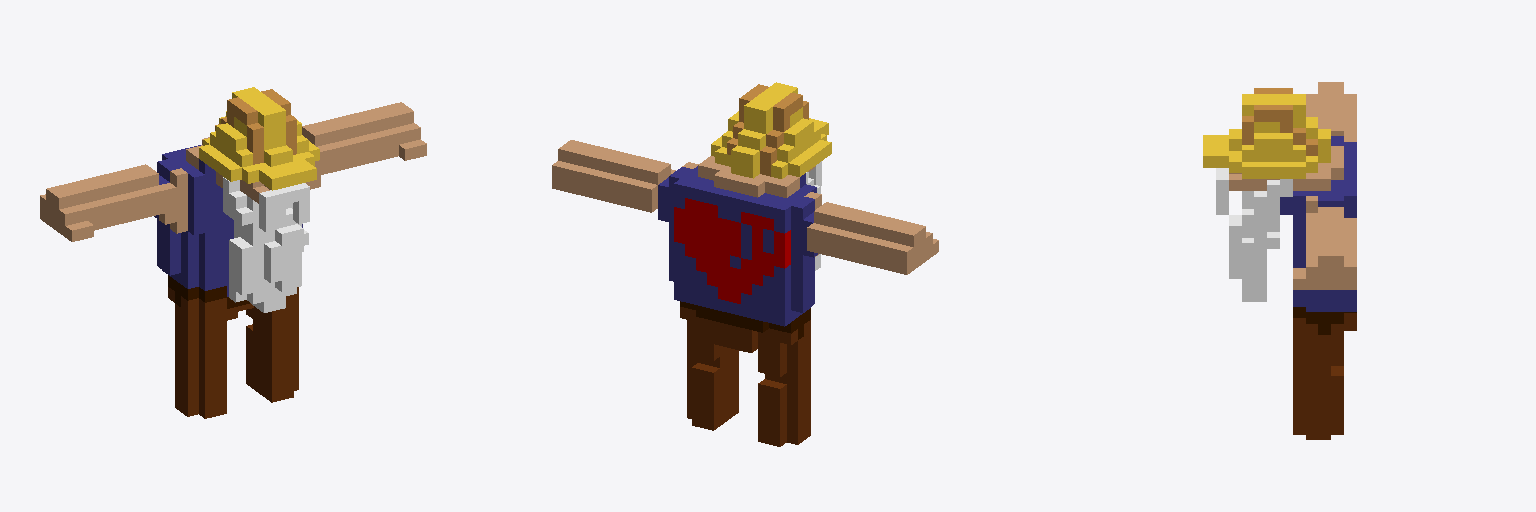
3 renders of one model, left to right at view 1: azimuth 30°, elevation 25°; view 2: azimuth 150°, elevation 25°; view 3: azimuth 270°, elevation 25°, orthographic.
Visible parts, largest first — view 1: object 1; view 2: object 1; view 3: object 1.
Boxes of the visible parts, <box> form: object 1: <box>40,87,426,418</box>; object 1: <box>552,82,938,446</box>; object 1: <box>1203,82,1356,439</box>.
Size of the model in its own units: 3.2 by 2.7 by 1.2.
1 materials, 1 textured.